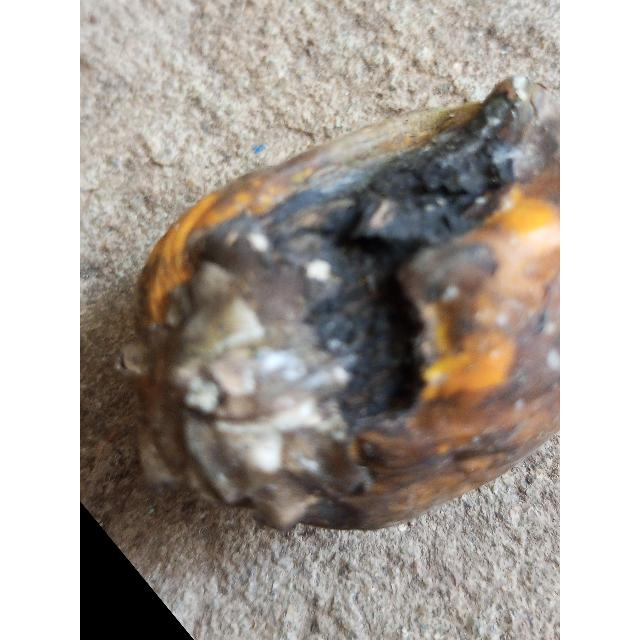damaged: (120, 76, 560, 536)
